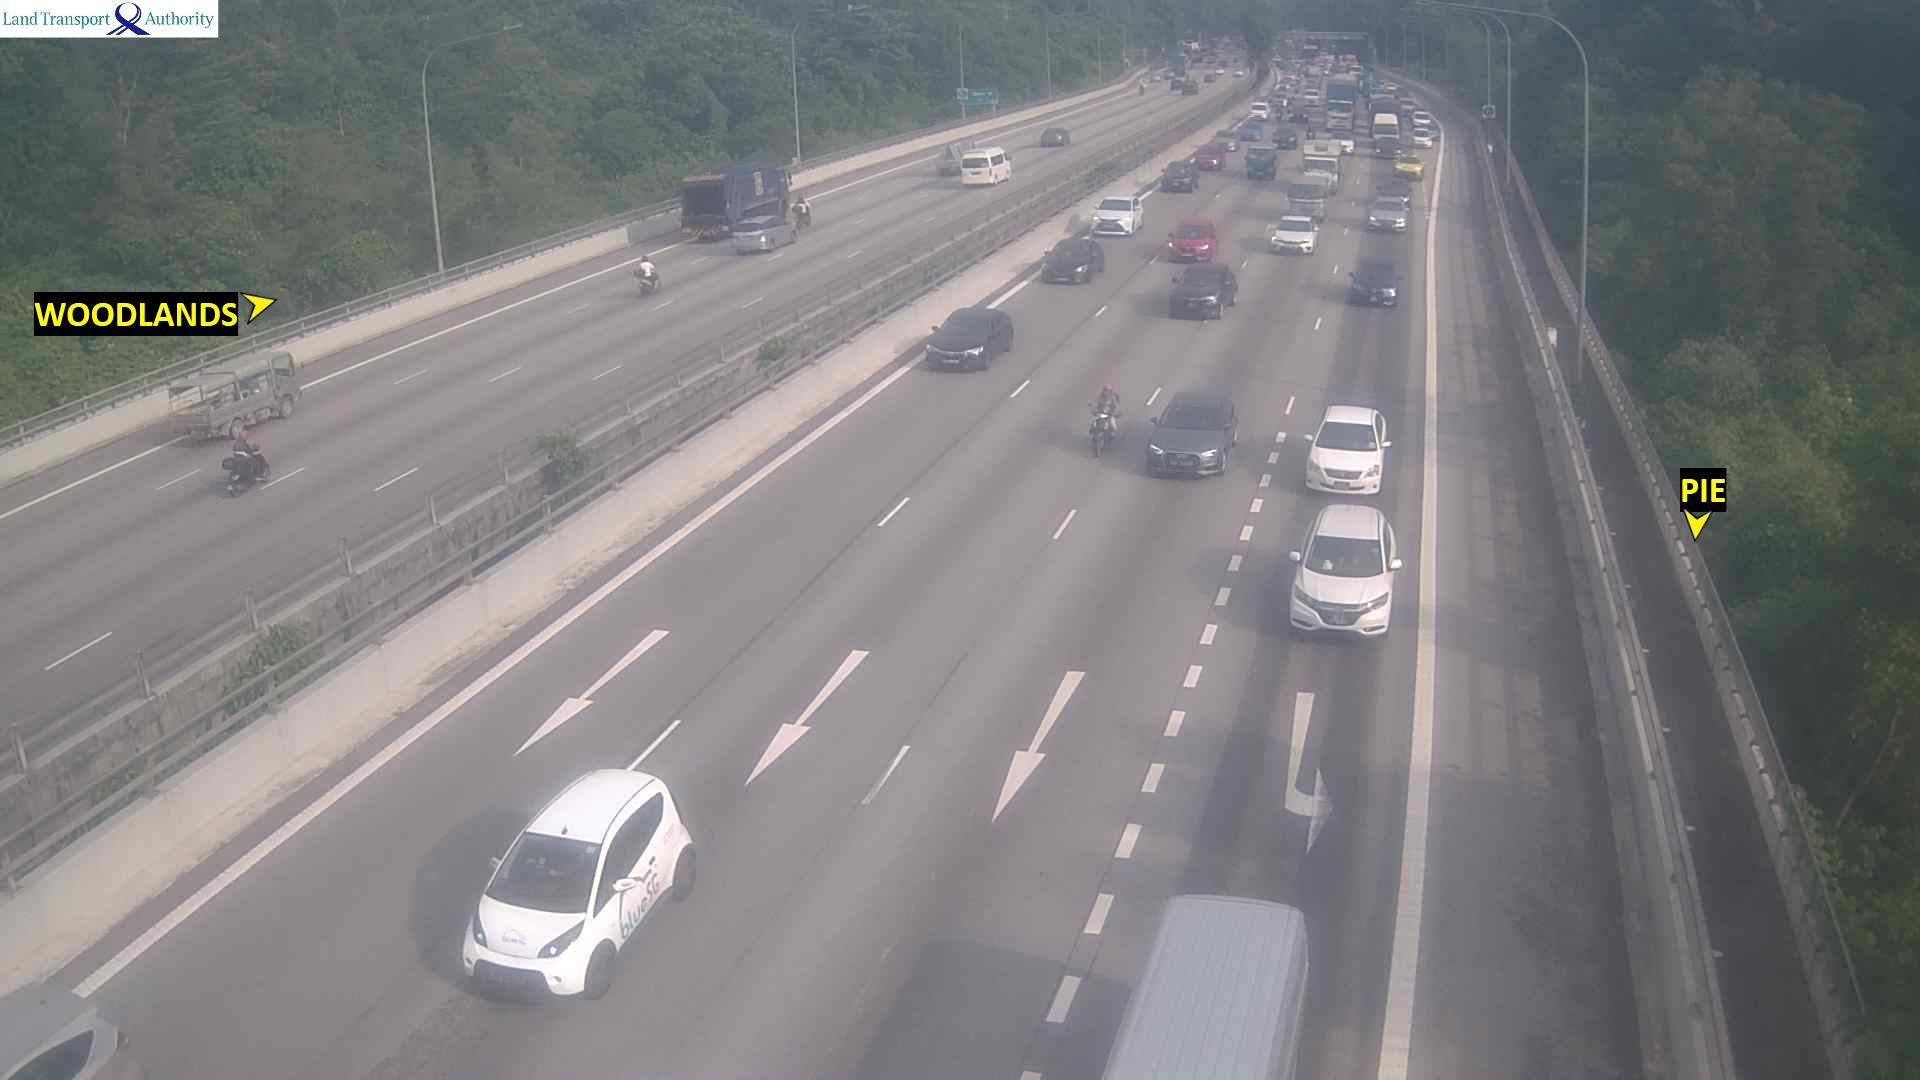cars: (460, 766, 696, 999), (1100, 891, 1311, 1078), (1287, 500, 1402, 637), (0, 976, 130, 1079), (1303, 402, 1392, 495), (1145, 391, 1238, 477), (923, 305, 1013, 371), (1169, 262, 1238, 319), (731, 195, 797, 252), (1040, 234, 1103, 284), (1347, 256, 1398, 306), (1164, 215, 1217, 262), (1089, 195, 1143, 236), (1266, 212, 1318, 254), (959, 145, 1011, 185), (1284, 181, 1327, 220), (1367, 193, 1410, 231), (1160, 158, 1198, 192), (1244, 143, 1278, 179), (1301, 136, 1341, 164), (1301, 165, 1338, 194), (1191, 142, 1224, 171), (1393, 152, 1424, 179), (1327, 130, 1355, 154), (1271, 125, 1297, 149), (1039, 126, 1069, 146), (1213, 130, 1242, 150), (1394, 95, 1418, 119), (1249, 101, 1270, 124), (1410, 127, 1434, 147), (1377, 140, 1402, 159), (1410, 112, 1434, 131), (1239, 123, 1263, 140), (1305, 70, 1323, 88), (1303, 87, 1319, 106), (1182, 79, 1199, 94), (1272, 92, 1287, 107), (1290, 111, 1310, 122), (1383, 82, 1398, 96), (1350, 67, 1366, 80), (1276, 80, 1291, 92), (1204, 72, 1221, 82), (1171, 76, 1184, 89), (1149, 71, 1162, 83), (1214, 65, 1228, 76), (1232, 68, 1245, 78)
motorcycle: (221, 442, 271, 496), (1086, 401, 1118, 459), (788, 195, 818, 224), (634, 266, 660, 296), (1305, 126, 1318, 142), (1139, 80, 1147, 96), (1276, 109, 1283, 120)
trucks: (166, 350, 301, 440), (678, 164, 804, 252), (932, 141, 982, 174), (1326, 79, 1357, 131), (1369, 100, 1402, 140), (1169, 54, 1193, 75)
